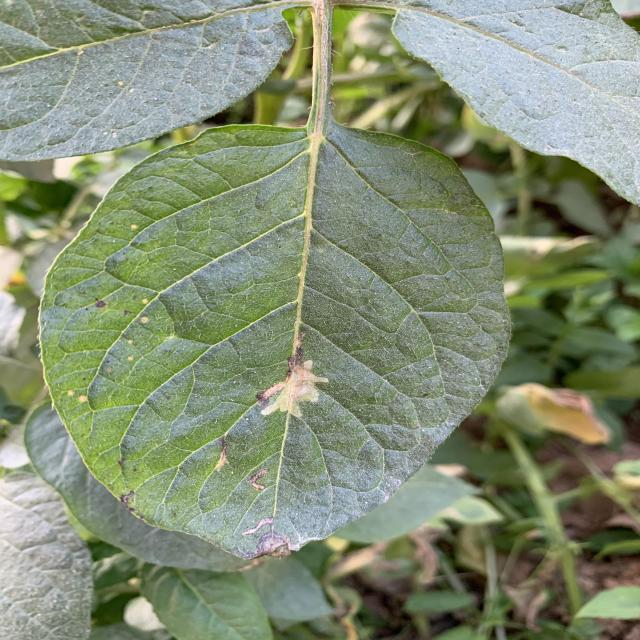lateblight: (255, 332, 328, 418), (242, 516, 297, 559), (247, 468, 270, 491), (218, 442, 227, 468)
